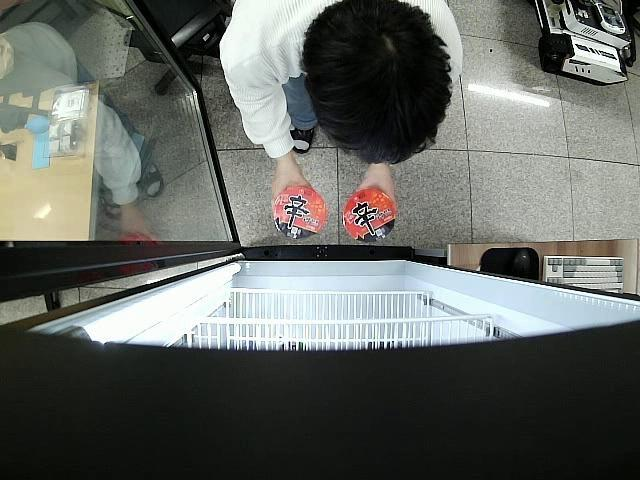01_ShinRamen_L: (274, 186, 329, 238), (344, 190, 396, 241)
